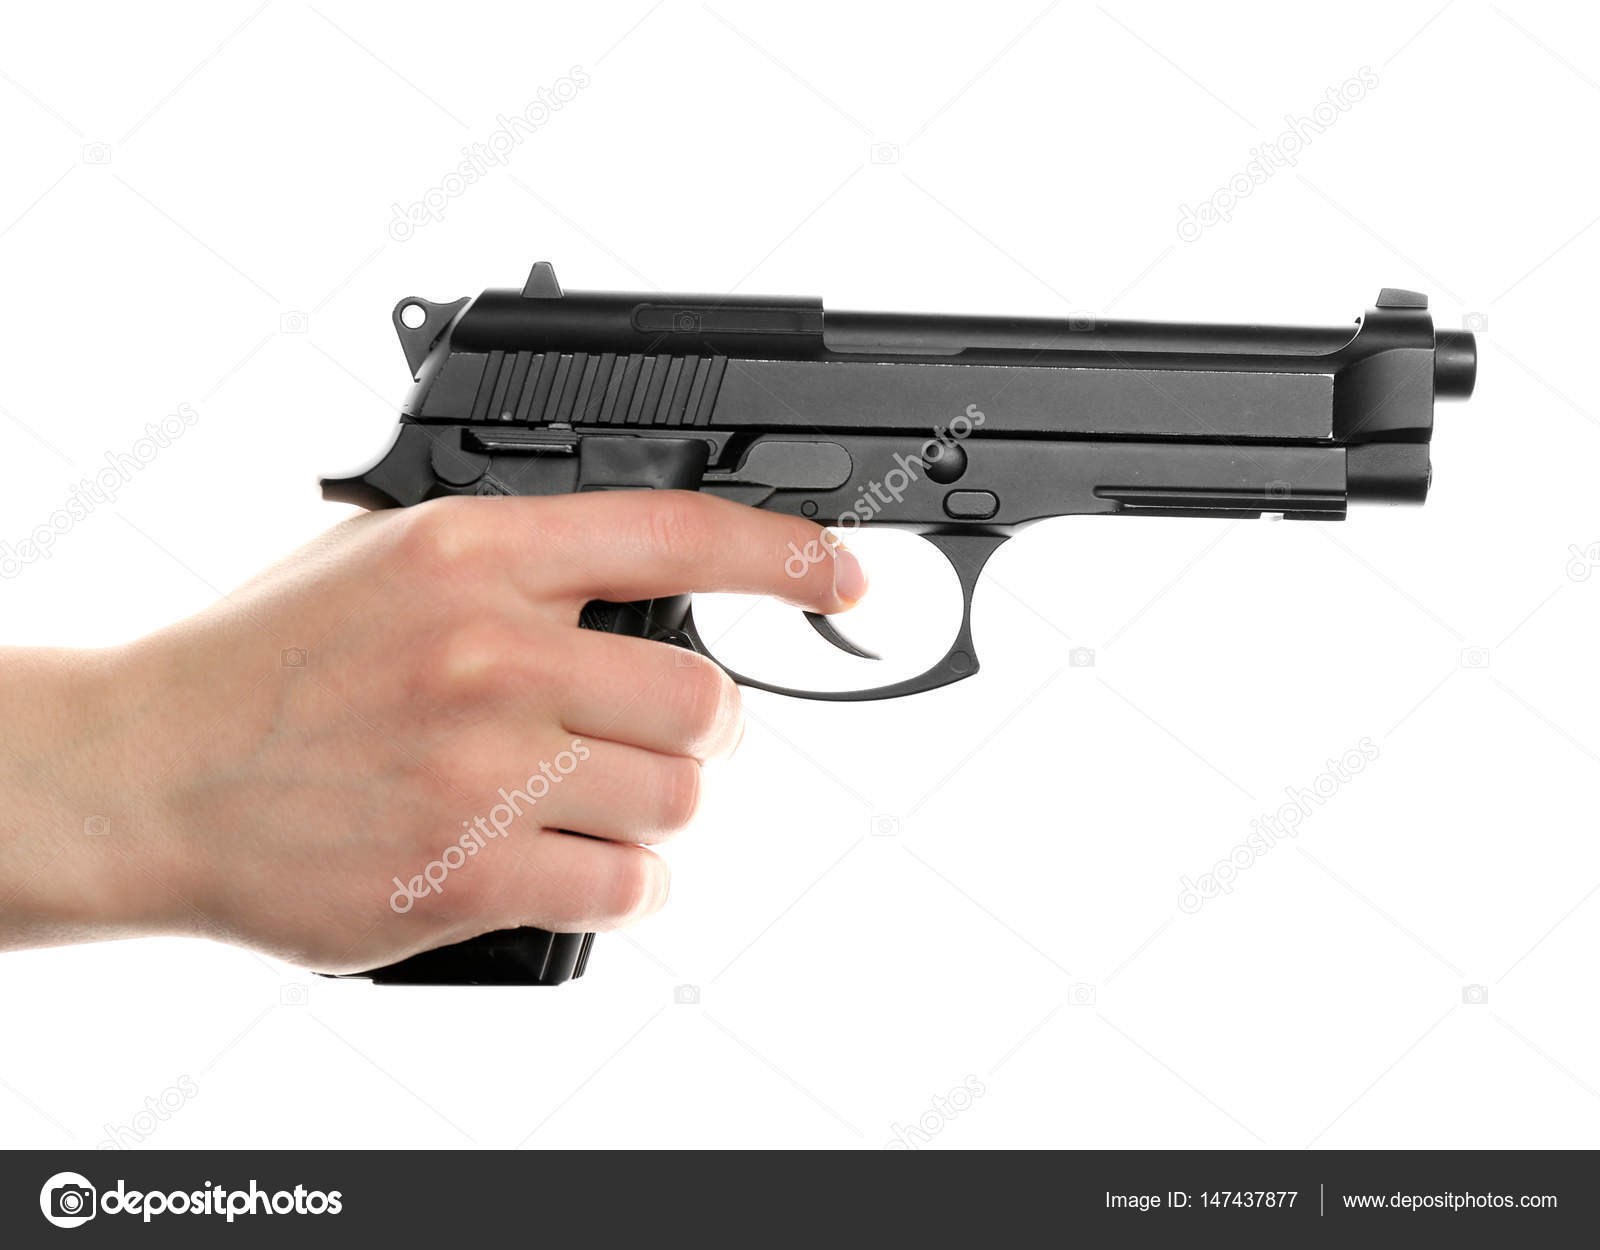pistol: (92, 246, 1508, 1038)
